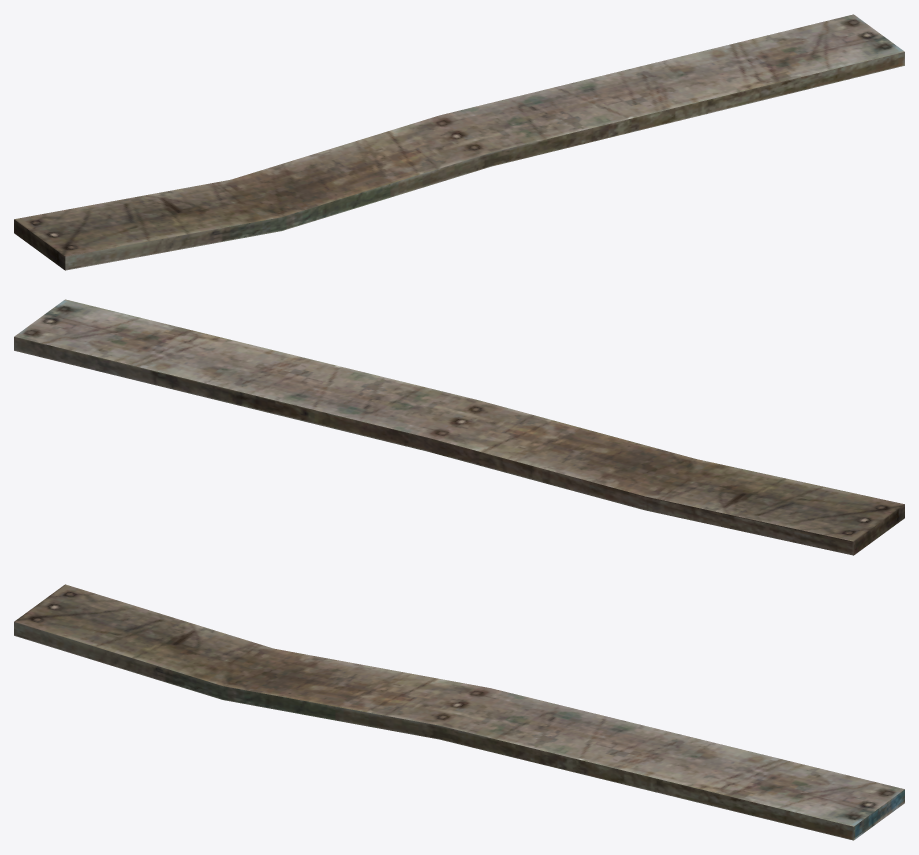
The model's file is wood_pallet_debris_05.glb.
The picture shows the model from 3 angles, top to bottom: view 1: azimuth 30°, elevation 25°; view 2: azimuth 150°, elevation 25°; view 3: azimuth 330°, elevation 25°; orthographic projection.
Parts seen in each view (by area): view 1: wood_pallet_debris_05; view 2: wood_pallet_debris_05; view 3: wood_pallet_debris_05.
Boxes of the visible parts, <box> form: wood_pallet_debris_05: <box>14,14,904,270</box>; wood_pallet_debris_05: <box>14,299,904,555</box>; wood_pallet_debris_05: <box>14,584,904,840</box>.
Bounding box in the file's own units: 0.9023 × 0.0241 × 0.1025.
1 material, 1 textured.
